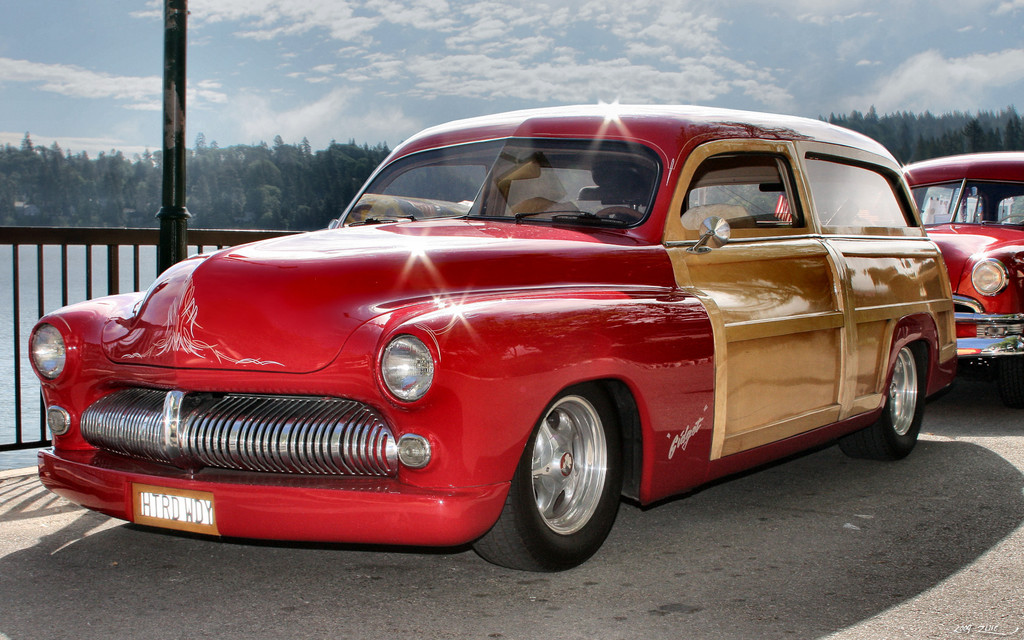mobil: (48, 99, 971, 593)
